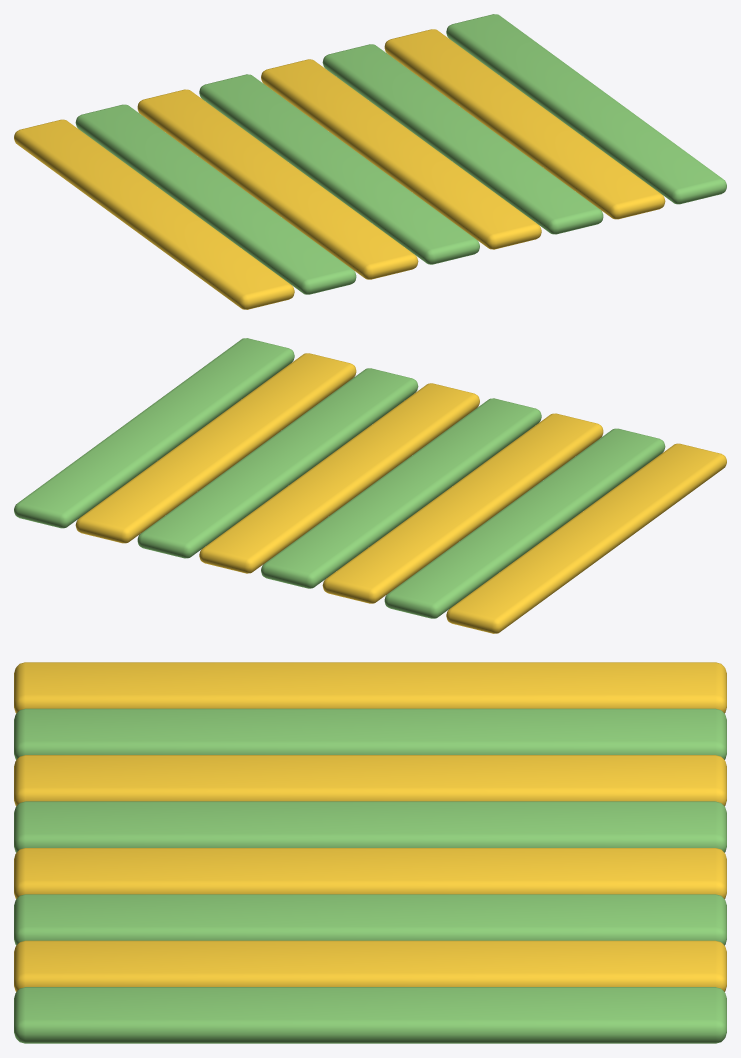
Rendered from tapete_listras_amarelo_verde.glb.
3 views of the same model, one above another, from view 1: azimuth 30°, elevation 25°; view 2: azimuth 150°, elevation 25°; view 3: azimuth 270°, elevation 25° (orthographic). The views are drawn at different scales.
Visible parts, largest first — view 1: tapete_listras_amarelo_verde; view 2: tapete_listras_amarelo_verde; view 3: tapete_listras_amarelo_verde.
Boxes of the visible parts, bbox=[...] form: tapete_listras_amarelo_verde: bbox=[14, 14, 726, 309]; tapete_listras_amarelo_verde: bbox=[14, 338, 726, 633]; tapete_listras_amarelo_verde: bbox=[14, 662, 726, 1043].
Bounding box in the file's own units: 0.607 × 0.018 × 0.5.
Materials: 1 (1 with a texture image).
